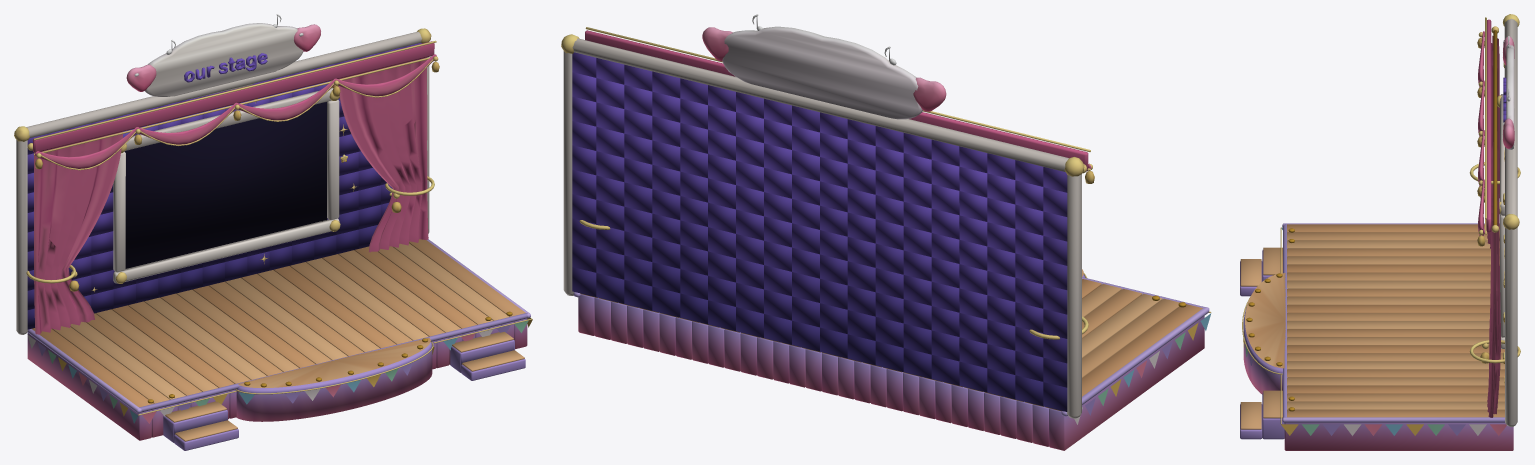
The model's file is prp_stage.glb.
The picture shows the model from 3 angles, left to right: view 1: azimuth 30°, elevation 25°; view 2: azimuth 150°, elevation 25°; view 3: azimuth 270°, elevation 25°; orthographic projection. The views are drawn at different scales.
Parts seen in each view (by area): view 1: INST_prp_stage_deck, INST_prp_stage_back, INST_prp_stage_curtains; view 2: INST_prp_stage_back, INST_prp_stage_deck, INST_prp_stage_curtains; view 3: INST_prp_stage_deck, INST_prp_stage_curtains, INST_prp_stage_back.
Part boxes in pixels (x1,y1,x2,y2): INST_prp_stage_deck: (27, 239, 532, 450); INST_prp_stage_back: (14, 14, 431, 334); INST_prp_stage_curtains: (26, 40, 439, 334); INST_prp_stage_back: (561, 14, 1084, 418); INST_prp_stage_deck: (573, 269, 1211, 450); INST_prp_stage_curtains: (579, 27, 1094, 339); INST_prp_stage_deck: (1240, 223, 1513, 450); INST_prp_stage_curtains: (1469, 17, 1520, 417); INST_prp_stage_back: (1497, 14, 1519, 426).
Bounding box in the file's own units: 9.84 × 6.49 × 5.65.
